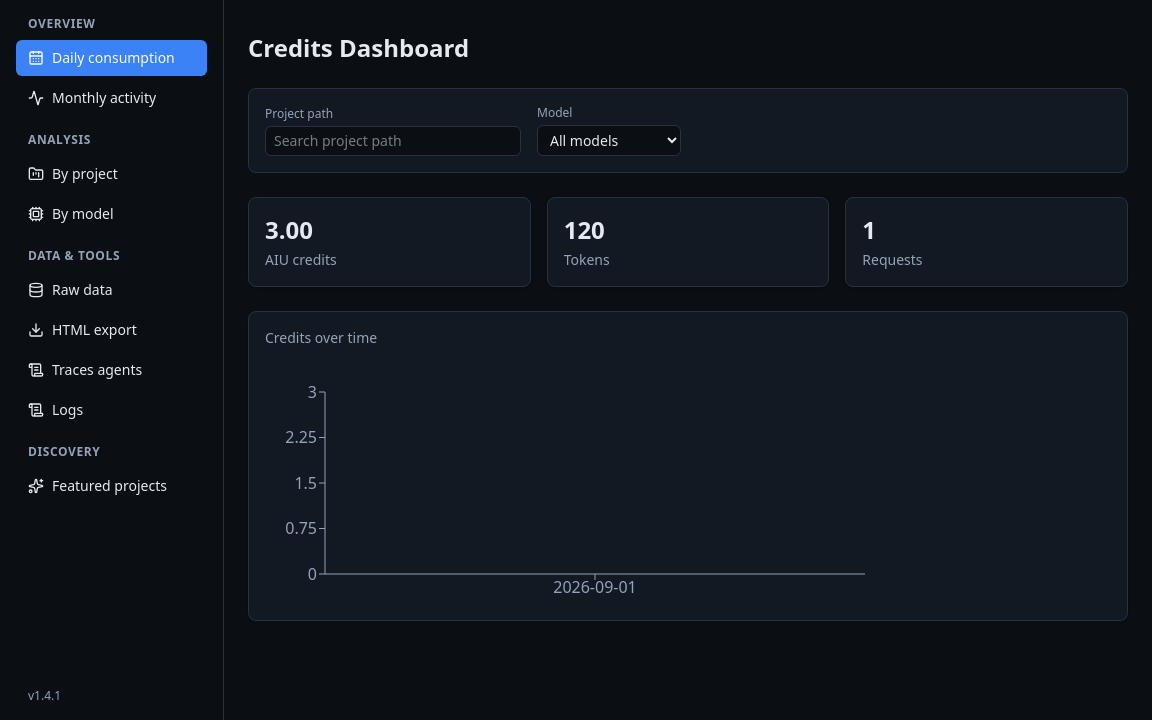
Test: App › keeps showing the last successful data and a non-blocking notice when a later refresh fails
Expected: the text "3.00" is shown, [265,214,313,246]
Step 1. Select "claude-sonnet-5" in the dropdown labelled "Model" → (609, 140), box [537,125,681,156]
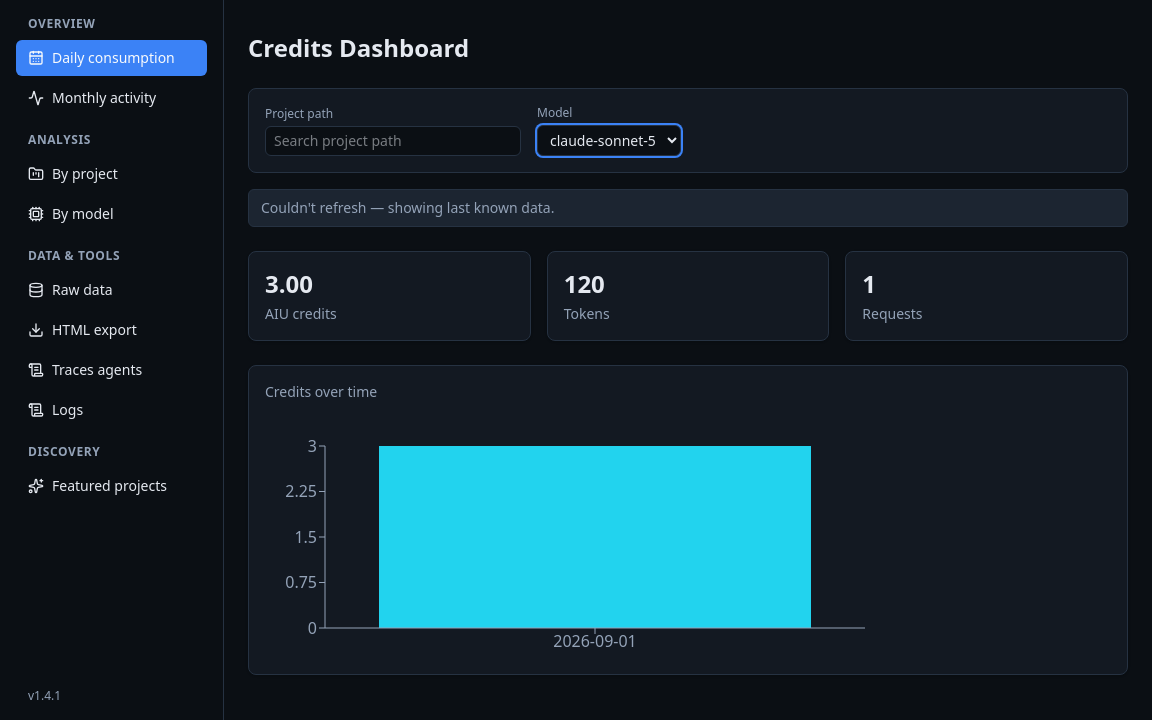
Expected: the text "3.00" is shown, [265,268,313,300]
Result: the text "Couldn't refresh — showing last known data." is shown at [248,189,1128,227]
